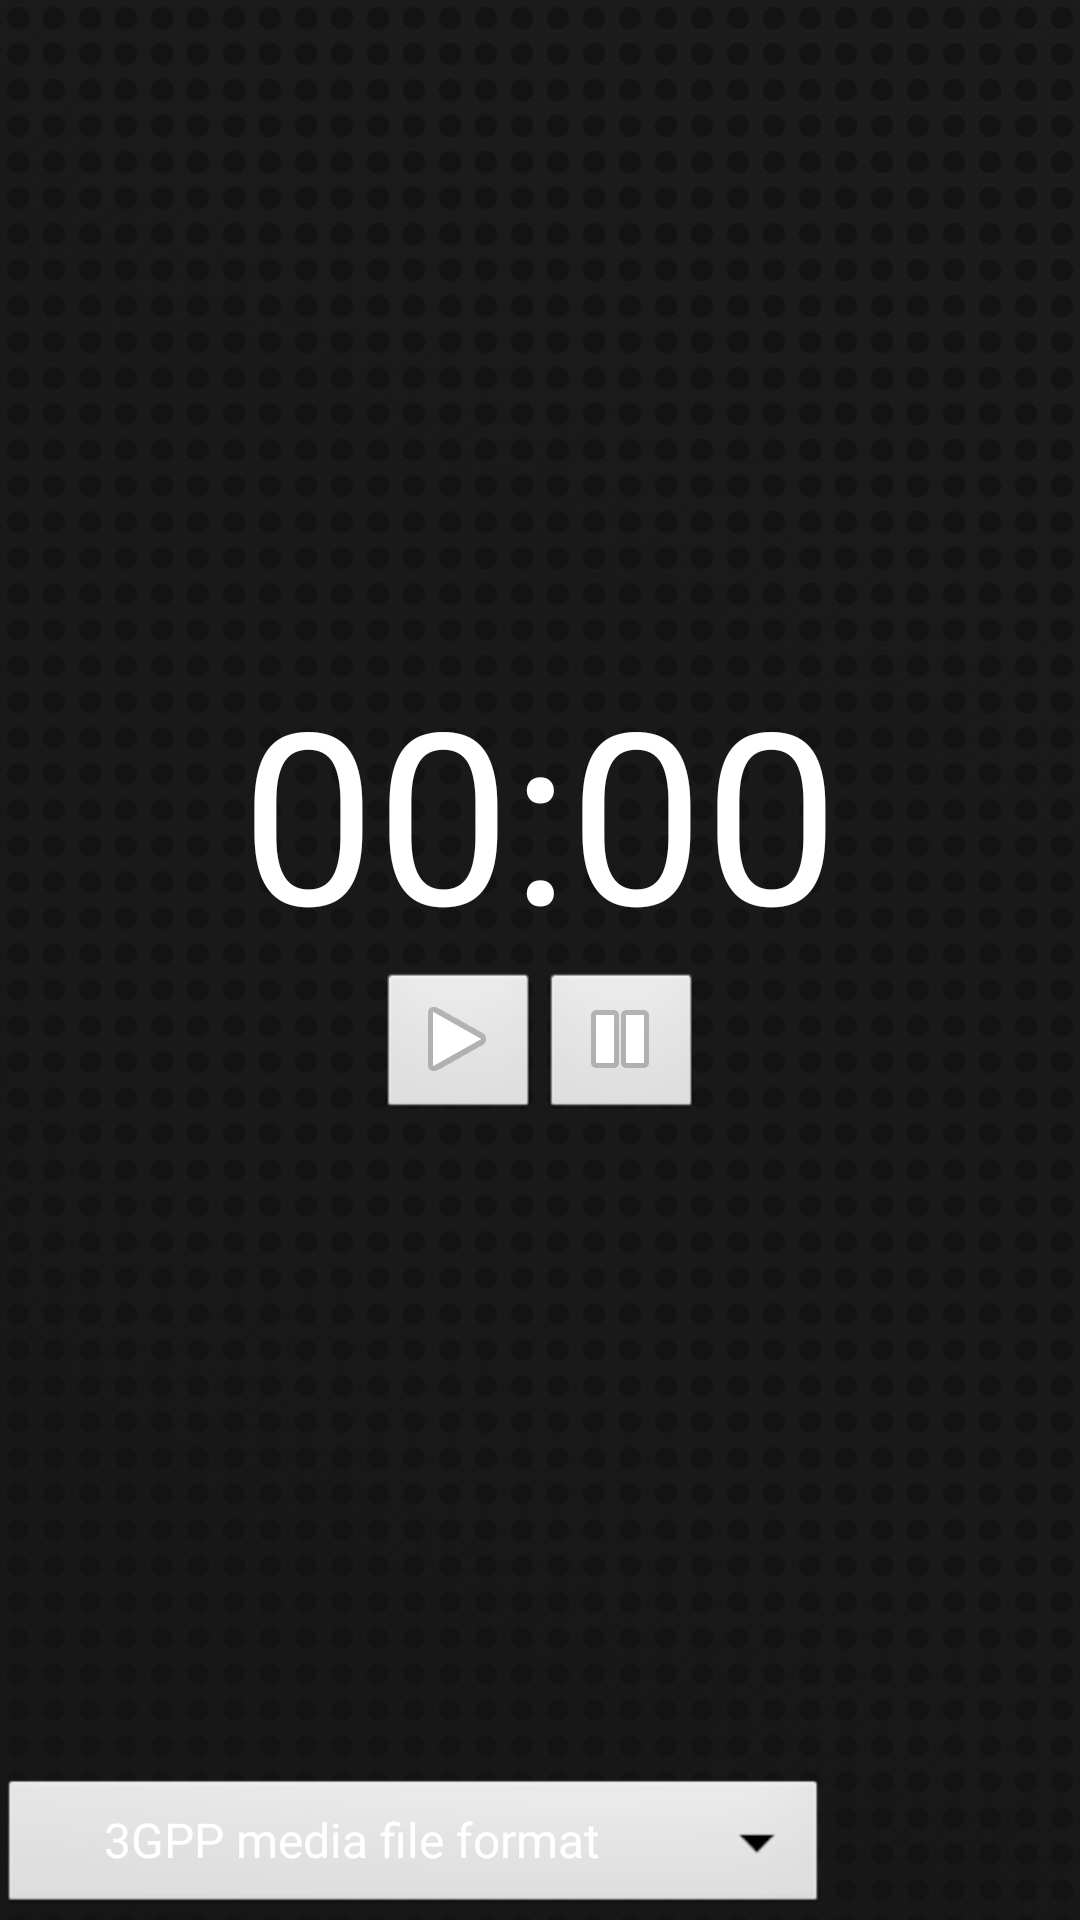

Icon bounding boxes for this 1080px×1920px phone screenshot, format (x1, y1, x2, y2):
pause: (550, 974, 692, 1106)
play: (387, 974, 529, 1106)
